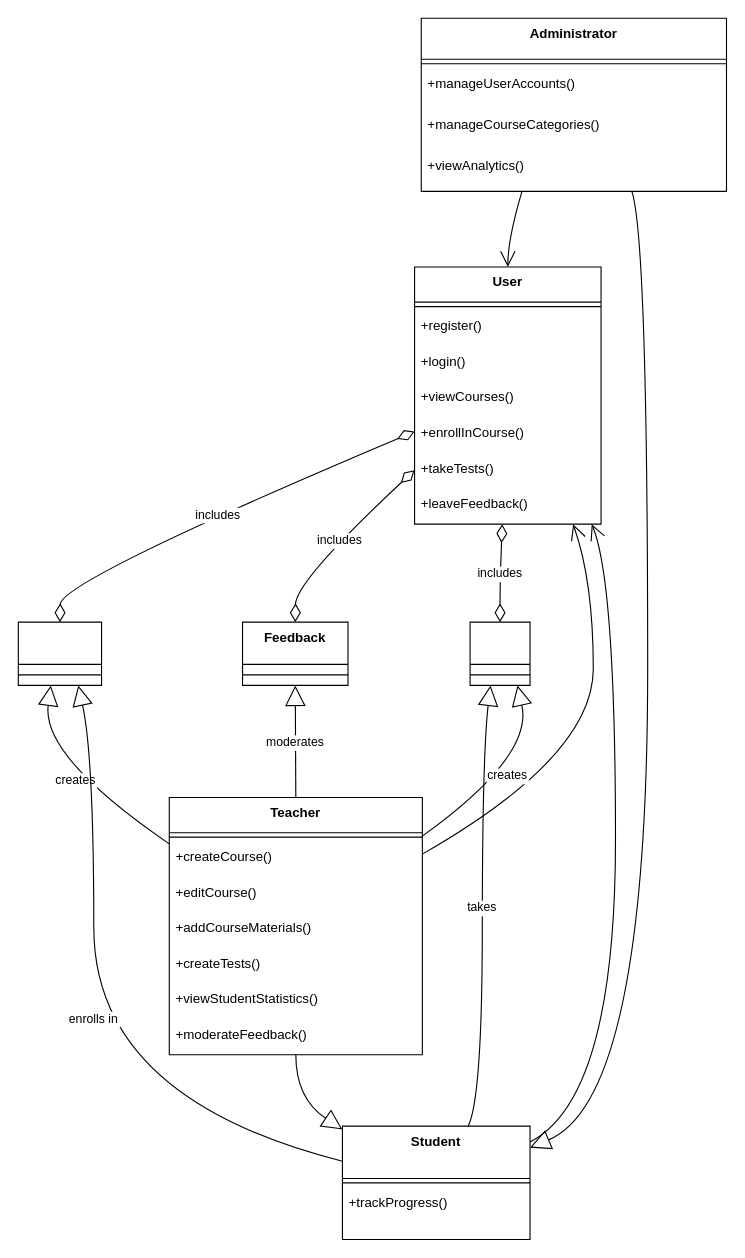
Some shapes in this 745 by 1258 pixel diagram are drawn without their labels. Each missing label, with the centre of its shape:
"Course" goes at point (59, 653).
"Test" goes at point (499, 653).
